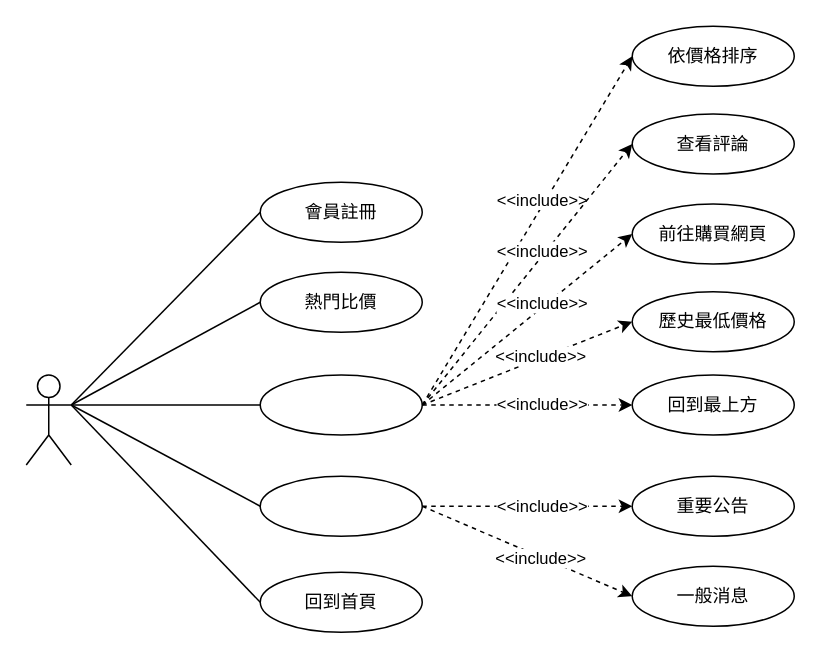
The diagram is 821 pixels wide and 659 high, and some of its shapes have lost their labels. The shapes that lost their labels are listed below. From the top down, each one's centre as x and y in pixels, then its label:
point (48, 419): 訪客
point (340, 404): 商品比價
point (340, 505): 最新消息
